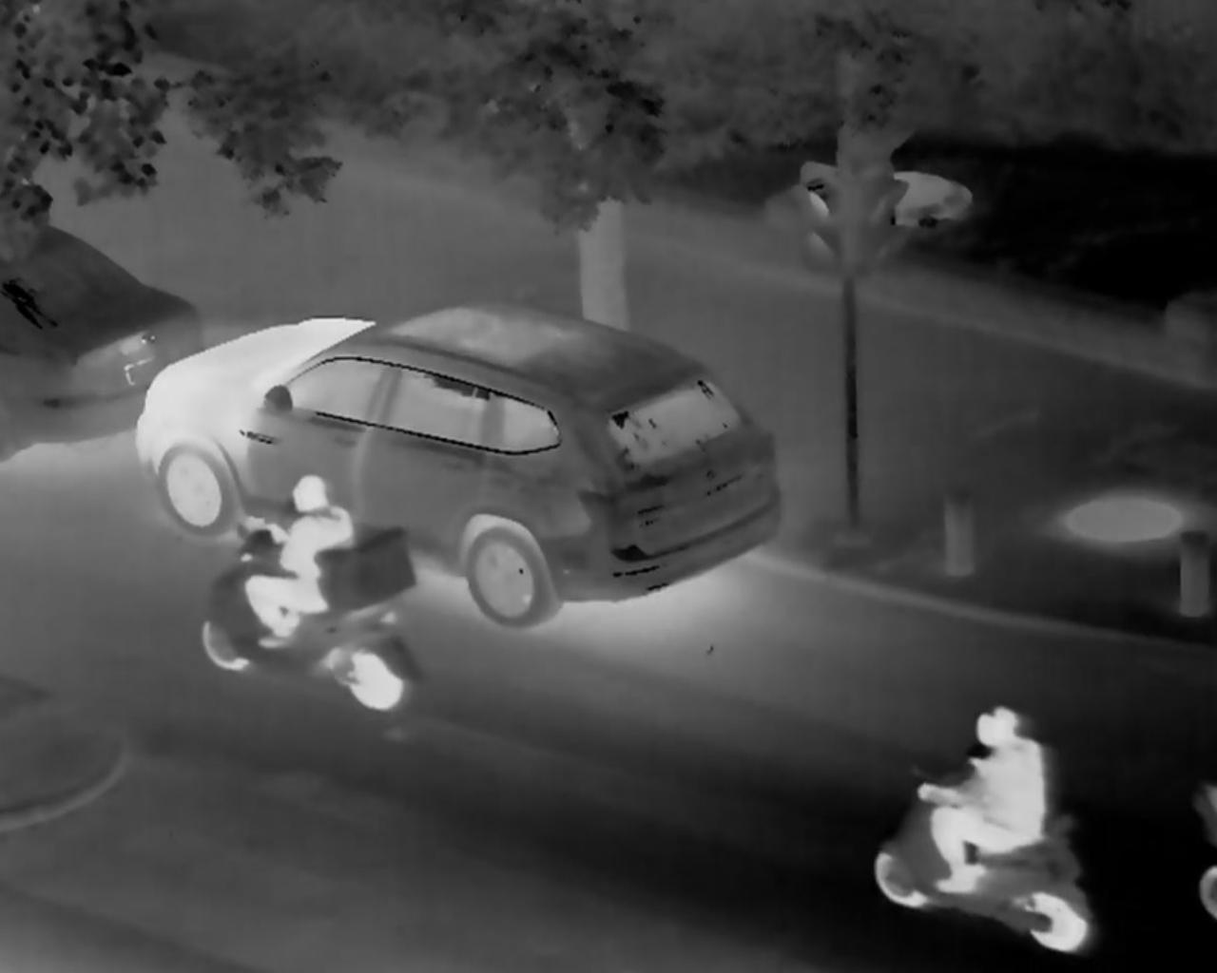person: (918, 682, 1082, 898), (243, 476, 343, 636)
